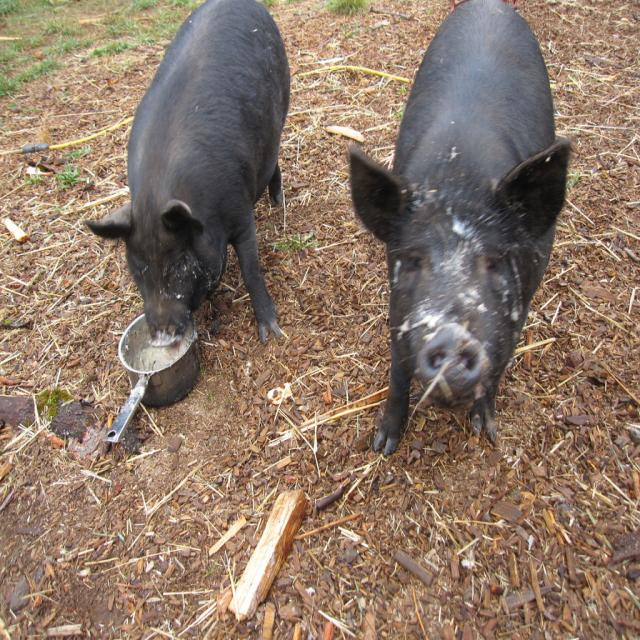Pig: (347, 0, 573, 453), (80, 0, 292, 346)
